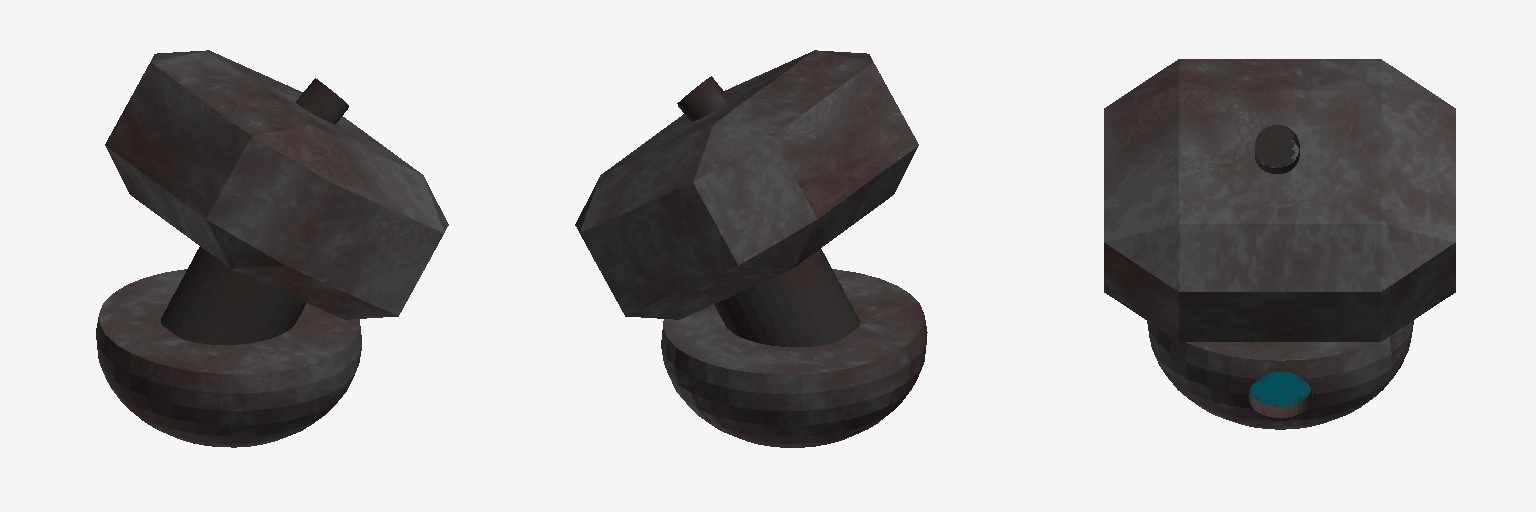
The picture shows the model from 3 angles: view 1: azimuth 30°, elevation 25°; view 2: azimuth 150°, elevation 25°; view 3: azimuth 270°, elevation 25°; orthographic projection.
Visible parts, largest first — view 1: 胴_円柱.001; view 2: 胴_円柱.001; view 3: 胴_円柱.001.
Part boxes in pixels (x1,y1,x2,y2): 胴_円柱.001: (96, 50, 448, 447); 胴_円柱.001: (575, 50, 927, 447); 胴_円柱.001: (1104, 59, 1455, 429).
Bounding box in the file's own units: 25.47 × 29.12 × 27.31.
Materials: 1 (1 with a texture image).